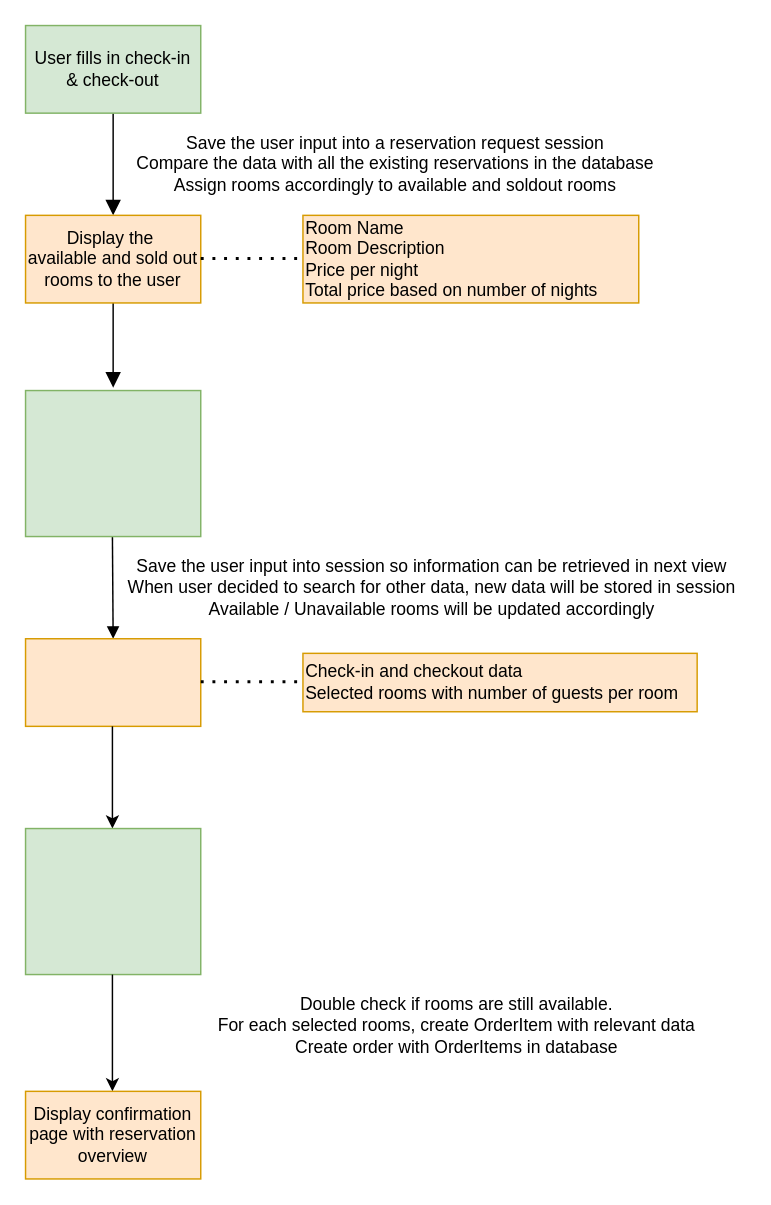
This 771x1205 diagram has some shape labels left out. Each missing label, with the centre of its shape:
Display reservation overview and form to complete reservation: point 112,681
User fills in contact details and payment information and submits the form: point 112,901
User selects the room(s) he/she wants to add and how many guests per room: point 112,463
